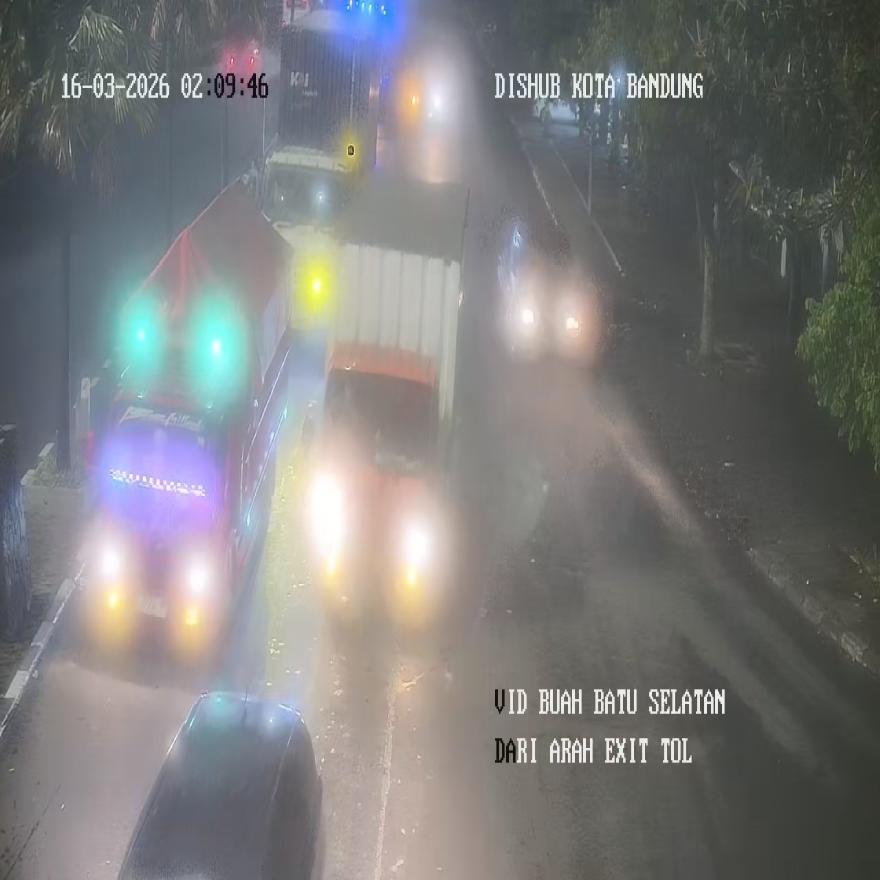Mobil: (116, 691, 325, 879), (496, 215, 610, 365)
Truk berat: (256, 11, 383, 356)
Truk menengah: (86, 181, 298, 634), (301, 171, 469, 612)
